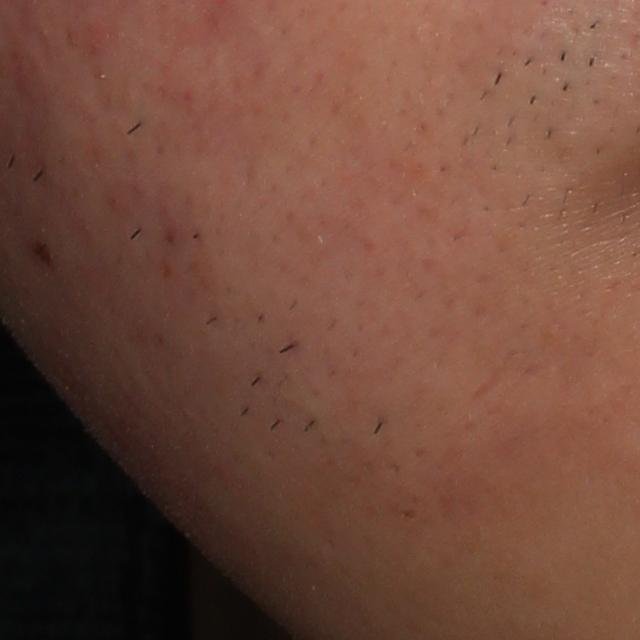nevus: (25, 238, 54, 272)
